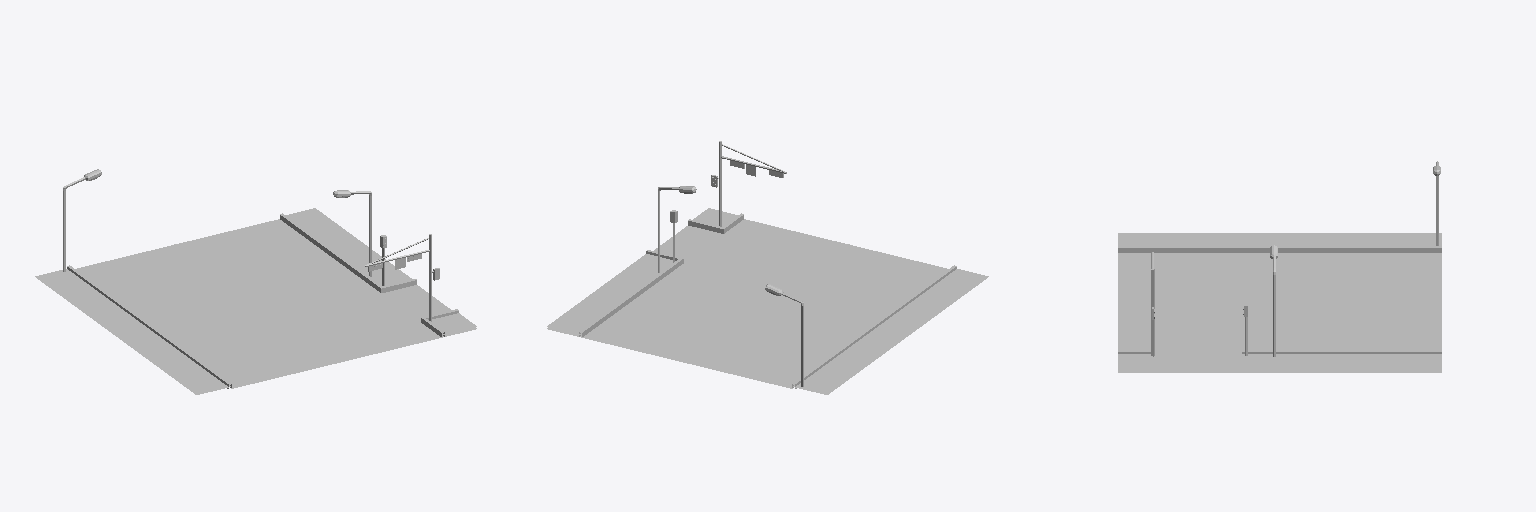
File: city2.obj
3 views of the same model, side by side, from view 1: azimuth 30°, elevation 25°; view 2: azimuth 150°, elevation 25°; view 3: azimuth 270°, elevation 25° (orthographic).
Parts seen in each view (by area): view 1: road_tile_2x2_3_Plane.1483; view 2: road_tile_2x2_3_Plane.1483; view 3: road_tile_2x2_3_Plane.1483.
Boxes of the visible parts, <box> form: road_tile_2x2_3_Plane.1483: <box>35,169,476,394</box>; road_tile_2x2_3_Plane.1483: <box>547,141,988,394</box>; road_tile_2x2_3_Plane.1483: <box>1118,161,1441,372</box>.
Size of the model in its own units: 0.08 by 0.0262 by 0.08.